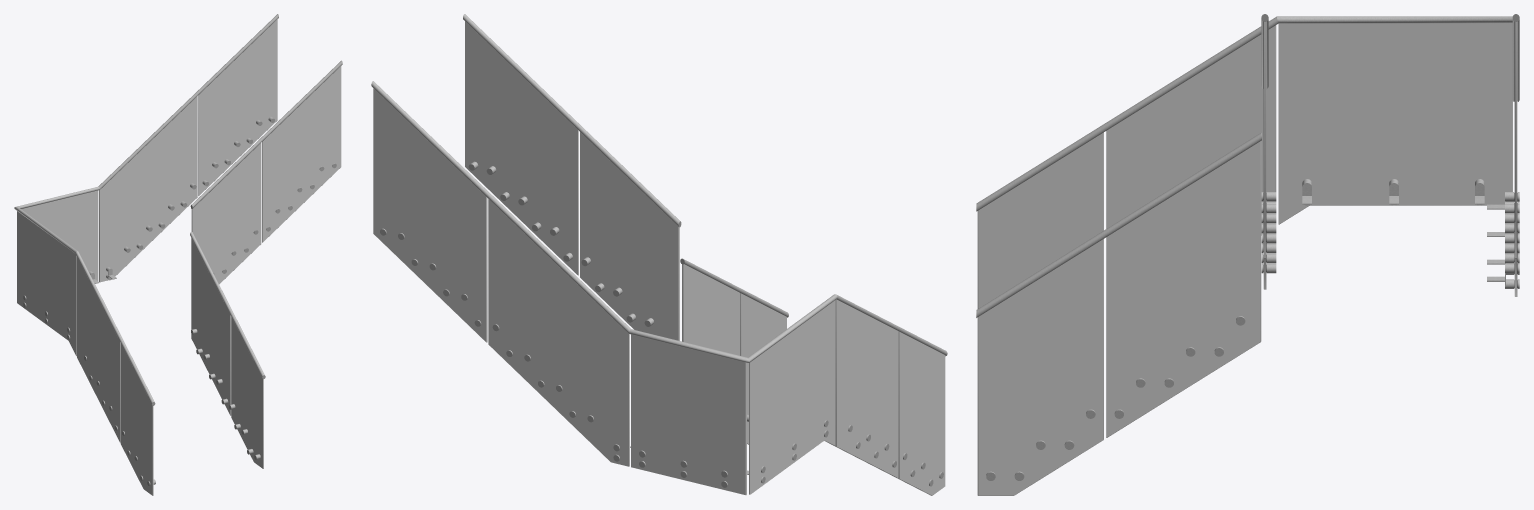
The model's file is L-Shaped_Railing_Optik-Boss.gltf.
The picture shows the model from 3 angles, left to right: view 1: azimuth 30°, elevation 25°; view 2: azimuth 150°, elevation 25°; view 3: azimuth 270°, elevation 25°; orthographic projection. The views are drawn at different scales.
Parts seen in each view (by area): view 1: Casework 2 Casework 1 [8743341], Casework 5 Casework 1 [8445778], Casework 4 Casework 1 [8744916], Casework 6 Casework 1 [8445804], Generic Models 11 Generic Models 11 [8762451], Generic Models 11 Generic Models 11 [8762451]002, Object001, Generic Models 7 Generic Models 1 [8445814]; view 2: Casework 2 Casework 1 [8743341], Casework 5 Casework 1 [8445778], Casework 4 Casework 1 [8744916], Casework 6 Casework 1 [8445804], Generic Models 11 Generic Models 11 [8762451], Generic Models 11 Generic Models 11 [8762451]002, Object001; view 3: Casework 4 Casework 1 [8744916], Casework 6 Casework 1 [8445804], Object001, Generic Models 7 Generic Models 1 [8445814], Generic Models 11 Generic Models 11 [8762451], Casework 2 Casework 1 [8743341], Casework 5 Casework 1 [8445778].
Boxes of the visible parts, bbox=[...] form: Casework 2 Casework 1 [8743341]: bbox=[21, 19, 277, 282]; Casework 5 Casework 1 [8445778]: bbox=[191, 66, 341, 284]; Casework 4 Casework 1 [8744916]: bbox=[17, 211, 153, 495]; Casework 6 Casework 1 [8445804]: bbox=[191, 238, 263, 468]; Generic Models 11 Generic Models 11 [8762451]: bbox=[14, 14, 278, 251]; Generic Models 11 Generic Models 11 [8762451]002: bbox=[190, 60, 342, 208]; Object001: bbox=[73, 249, 155, 405]; Generic Models 7 Generic Models 1 [8445814]: bbox=[190, 232, 265, 379]; Casework 2 Casework 1 [8743341]: bbox=[373, 88, 746, 495]; Casework 5 Casework 1 [8445778]: bbox=[465, 21, 679, 340]; Casework 4 Casework 1 [8744916]: bbox=[749, 299, 945, 495]; Casework 6 Casework 1 [8445804]: bbox=[682, 264, 786, 444]; Generic Models 11 Generic Models 11 [8762451]: bbox=[371, 81, 833, 362]; Generic Models 11 Generic Models 11 [8762451]002: bbox=[463, 14, 681, 227]; Object001: bbox=[831, 294, 947, 356]; Casework 4 Casework 1 [8744916]: bbox=[977, 23, 1512, 308]; Casework 6 Casework 1 [8445804]: bbox=[977, 141, 1261, 495]; Object001: bbox=[976, 16, 1287, 211]; Generic Models 7 Generic Models 1 [8445814]: bbox=[976, 132, 1261, 317]; Generic Models 11 Generic Models 11 [8762451]: bbox=[1287, 14, 1519, 101]; Casework 2 Casework 1 [8743341]: bbox=[1514, 22, 1517, 296]; Casework 5 Casework 1 [8445778]: bbox=[1263, 22, 1266, 289].
Size of the model in its own units: 3.19 by 3.69 by 2.9.
